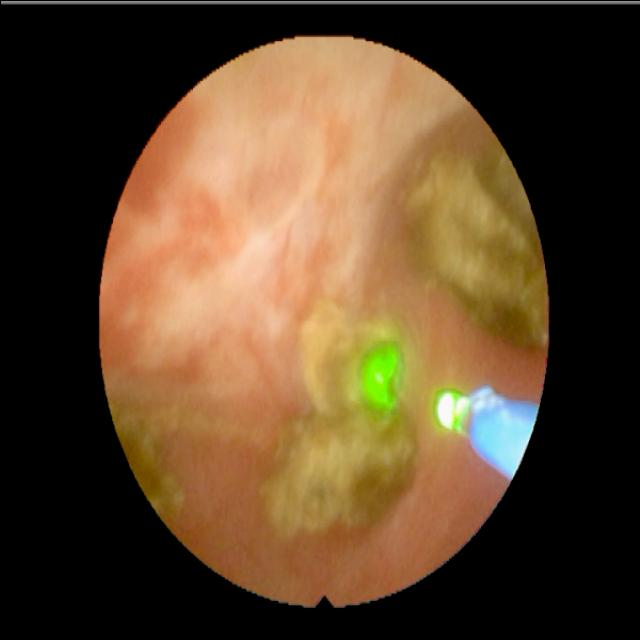fiber: (473, 389, 532, 476)
stone: (262, 310, 418, 538), (407, 137, 546, 345)
tissue: (104, 46, 529, 601)
